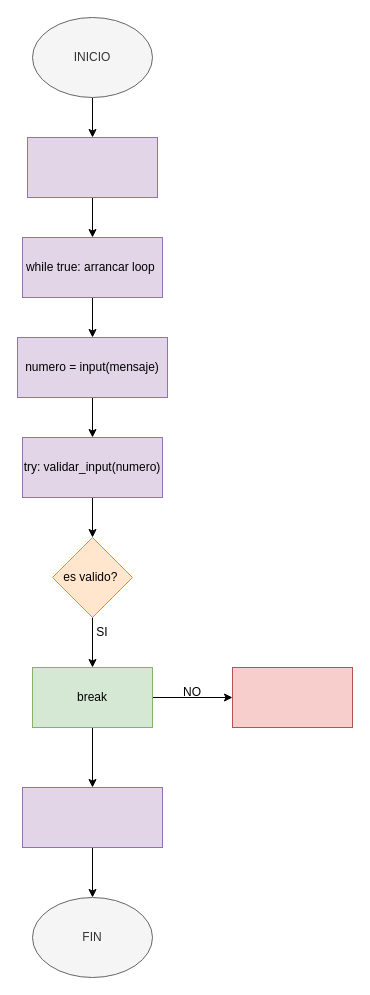
Some shapes in this 370 by 995 pixel diagram are drawn without their labels. Each missing label, with the centre of its shape:
"Pedir_inputs(mensaje)" belongs at point 92,167.
"prient ERROR" belongs at point 292,697.
"Return numero_valido" belongs at point 92,817.
